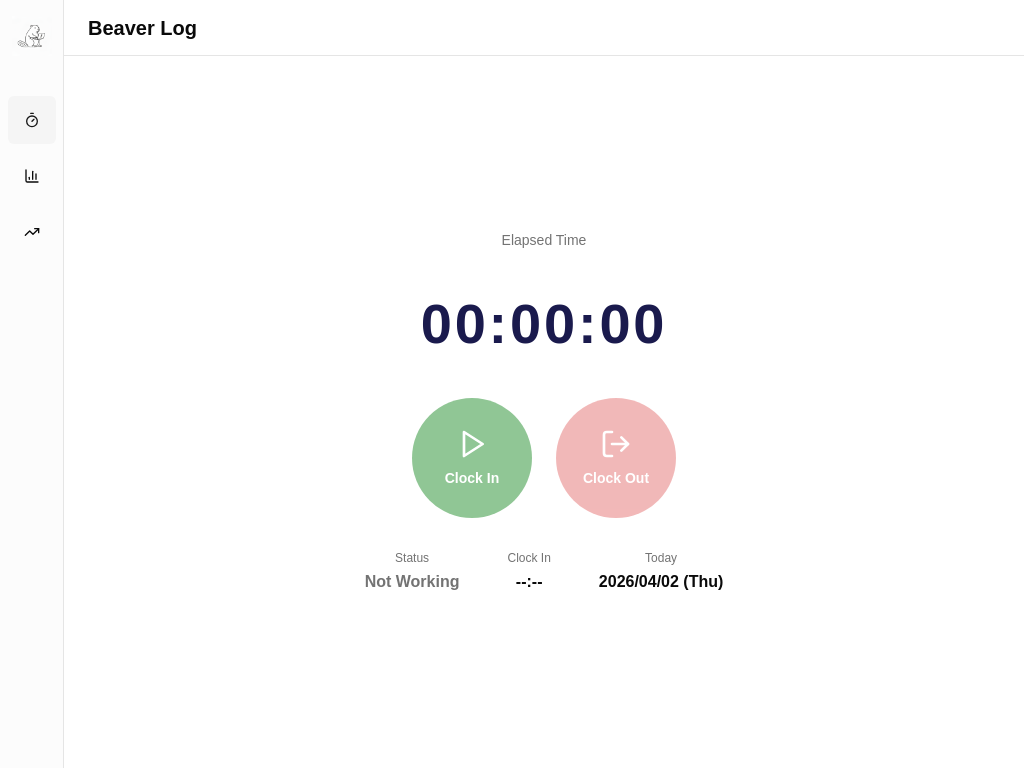
Scenario: AttendanceApp › should switch between tabs
Click the 2nd button named "Daily Summary". click: (32, 176)
box: top-left (8, 152), bottom-right (56, 200)
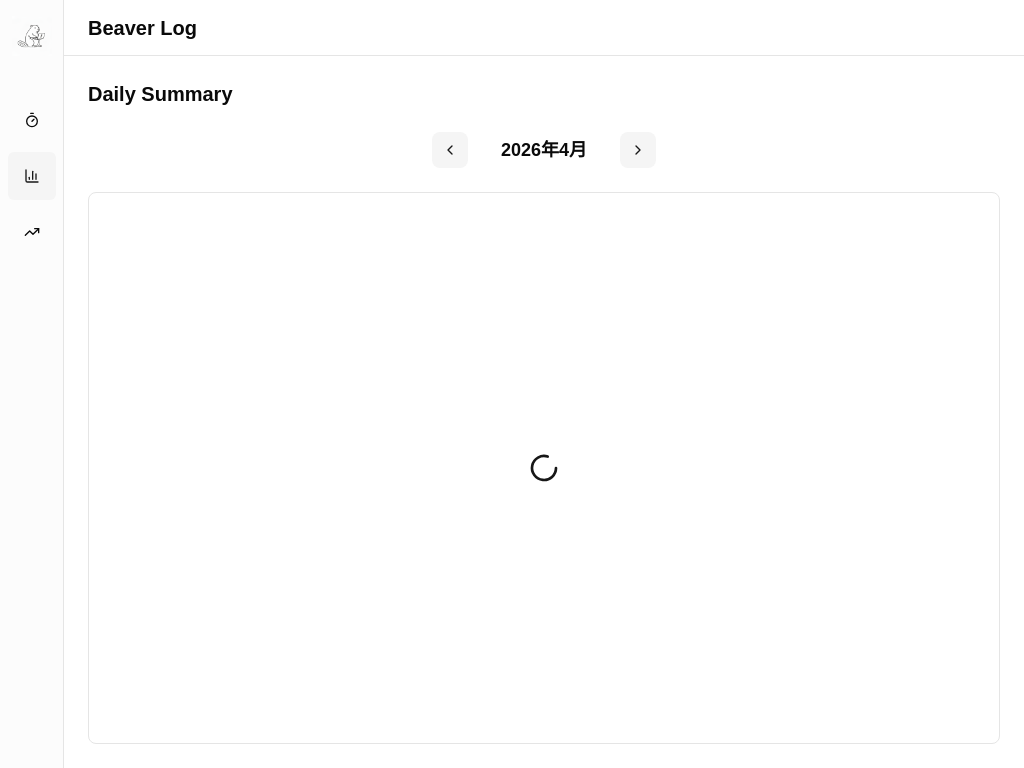
Click the 1st button named "Attendance". click: (32, 120)
box: top-left (8, 96), bottom-right (56, 144)
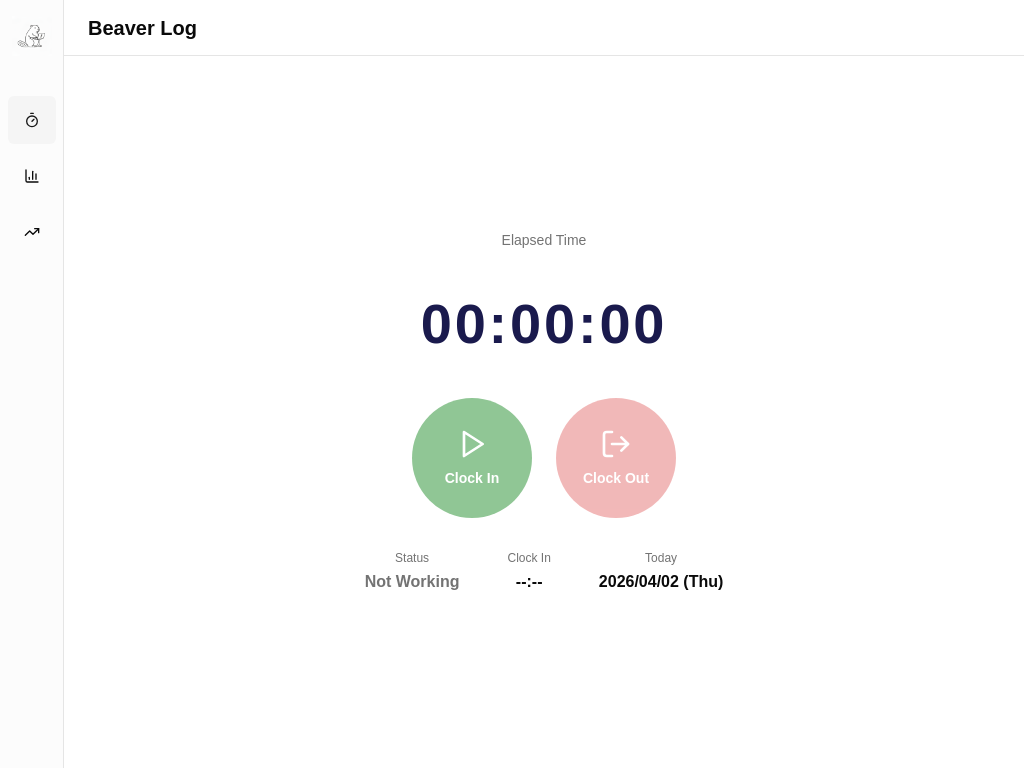
Now the text "Elapsed Time" is shown, box top-left (502, 230), bottom-right (586, 250)
Now the text "Clock Out" is shown, box top-left (583, 468), bottom-right (649, 488)
